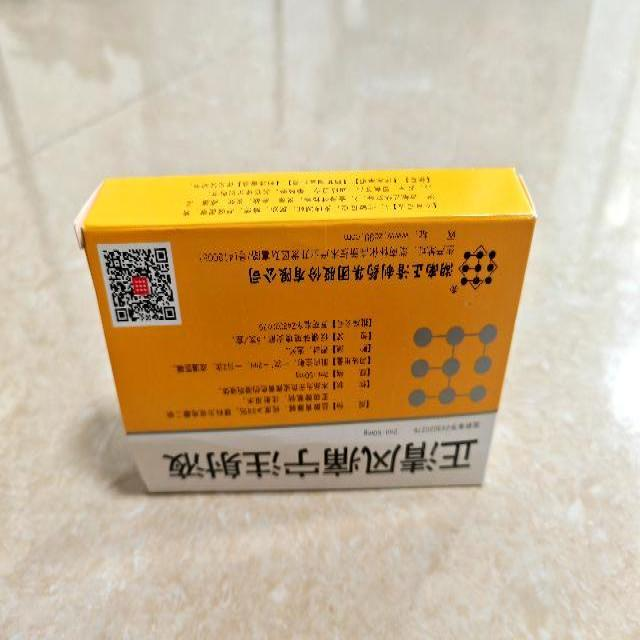box: (78, 165, 536, 496)
